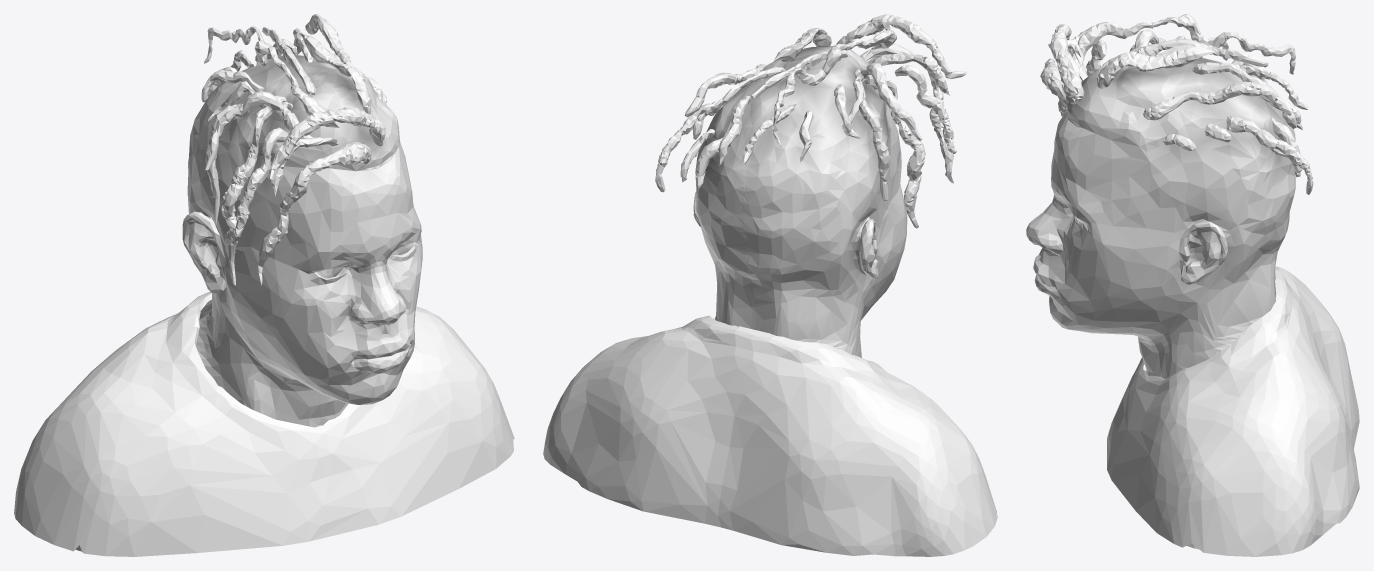
The model's file is HEAD1_copy.OBJ.
3 views of the same model, side by side, from view 1: azimuth 30°, elevation 25°; view 2: azimuth 150°, elevation 25°; view 3: azimuth 270°, elevation 25° (orthographic). The views are drawn at different scales.
Parts seen in each view (by area): view 1: Group1; view 2: Group1; view 3: Group1.
Part boxes in pixels (x1=…): Group1: x1=14, y1=14, x2=514, y2=556; Group1: x1=543, y1=14, x2=997, y2=556; Group1: x1=1026, y1=14, x2=1359, y2=556.
Bounding box in the file's own units: 23.04 × 22.04 × 15.76.
Materials: 1 (1 with a texture image).
